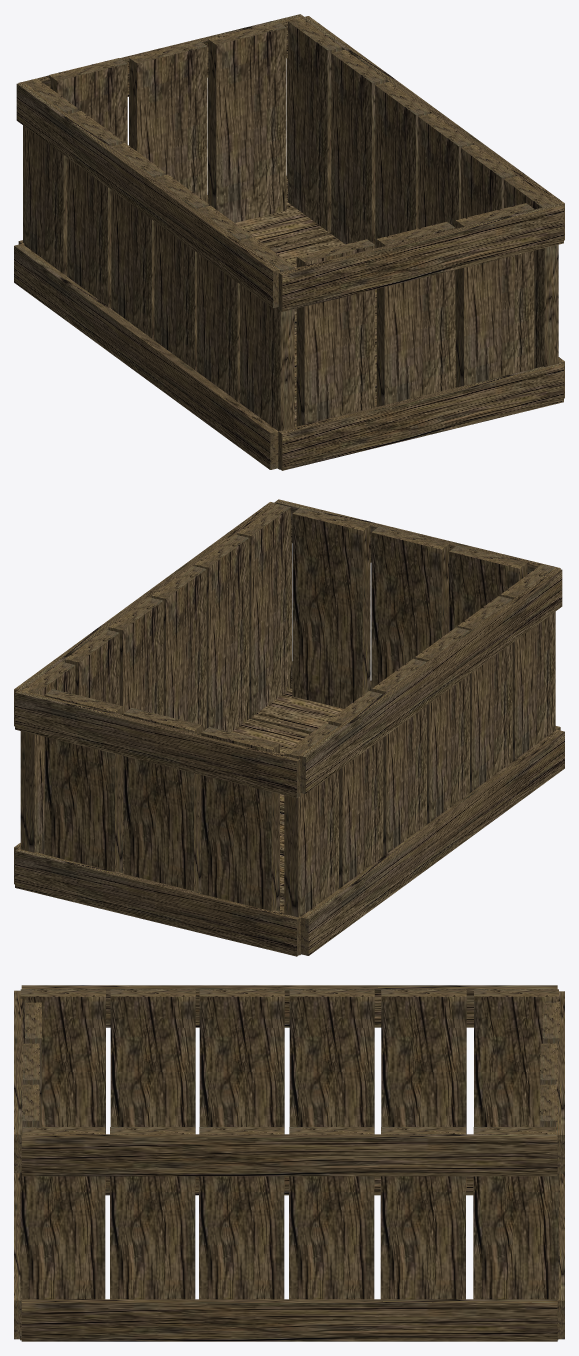
The model's file is Kiste2.fbx.
3 renders of one model, top to bottom at view 1: azimuth 30°, elevation 25°; view 2: azimuth 150°, elevation 25°; view 3: azimuth 270°, elevation 25°, orthographic. The views are drawn at different scales.
Visible parts, largest first — view 1: Cube.009; view 2: Cube.009; view 3: Cube.009.
Boxes of the visible parts, left/top/right/bottom form: Cube.009: left=14, top=14, right=564, bottom=470; Cube.009: left=14, top=499, right=564, bottom=956; Cube.009: left=14, top=985, right=564, bottom=1341.
Size of the model in its own units: 41.82 by 27 by 64.78.
1 material, 1 textured.
